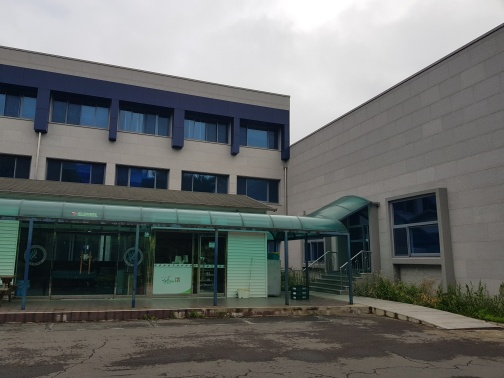College of Social Sciences: (7, 37, 489, 318), (9, 172, 366, 315), (30, 61, 303, 165)
